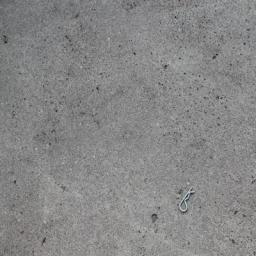FOD: (178, 186, 199, 215)
